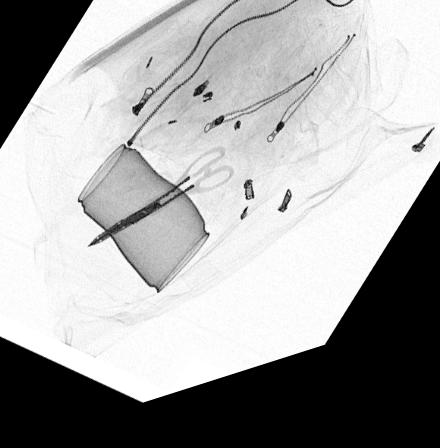Scissors: (81, 158, 236, 255)
